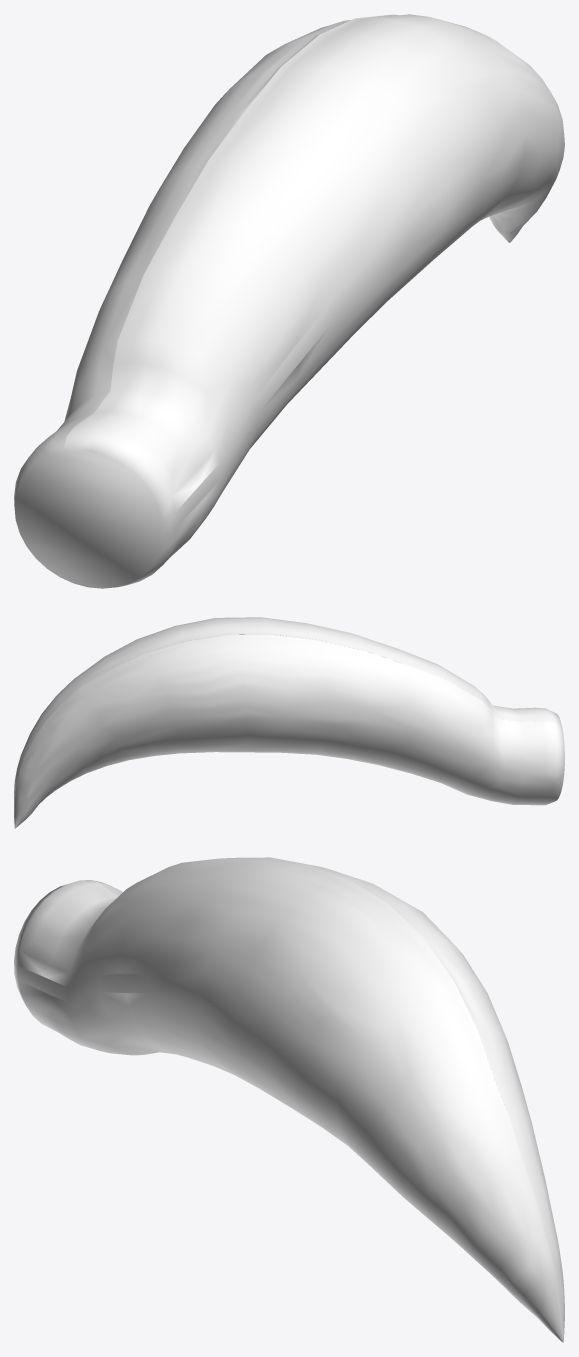
The model's file is hk_arm_left1_iselda.obj.
3 views of the same model, one above another, from view 1: azimuth 30°, elevation 25°; view 2: azimuth 150°, elevation 25°; view 3: azimuth 270°, elevation 25° (orthographic). The views are drawn at different scales.
Visible parts, largest first — view 1: Object_72_HeadIselda; view 2: Object_72_HeadIselda; view 3: Object_72_HeadIselda.
Boxes of the visible parts, x1,y1,x2,y2 form: Object_72_HeadIselda: [14, 14, 564, 588]; Object_72_HeadIselda: [14, 617, 564, 828]; Object_72_HeadIselda: [14, 857, 564, 1342].
Size of the model in its own units: 0.2 by 0.0887 by 0.1406.
